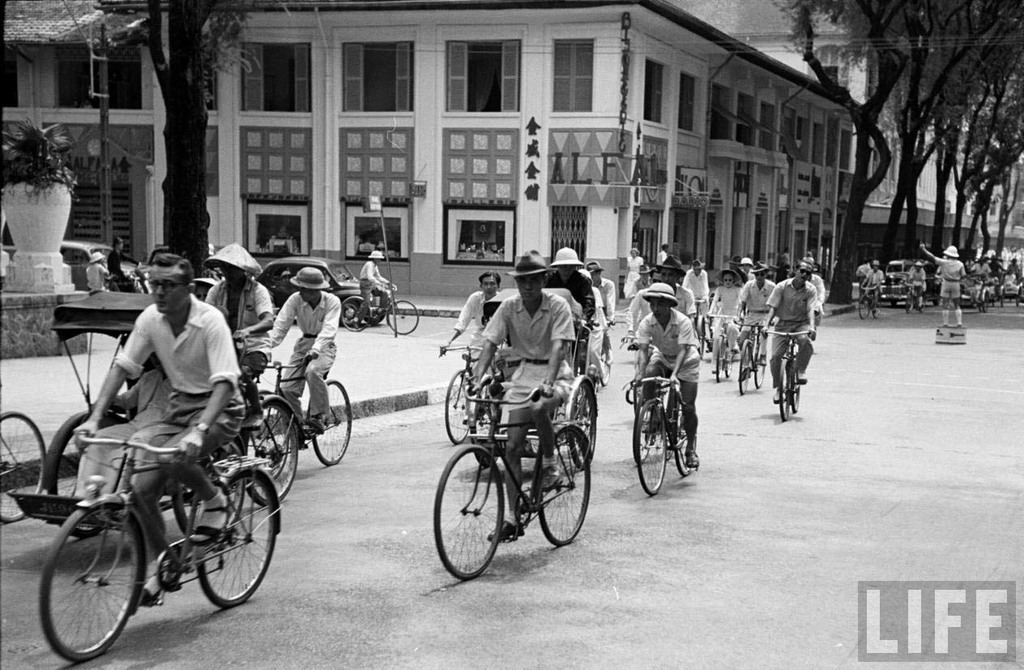Bike_toward: (38, 424, 289, 660), (429, 374, 594, 582), (625, 369, 710, 498), (762, 320, 817, 425)
